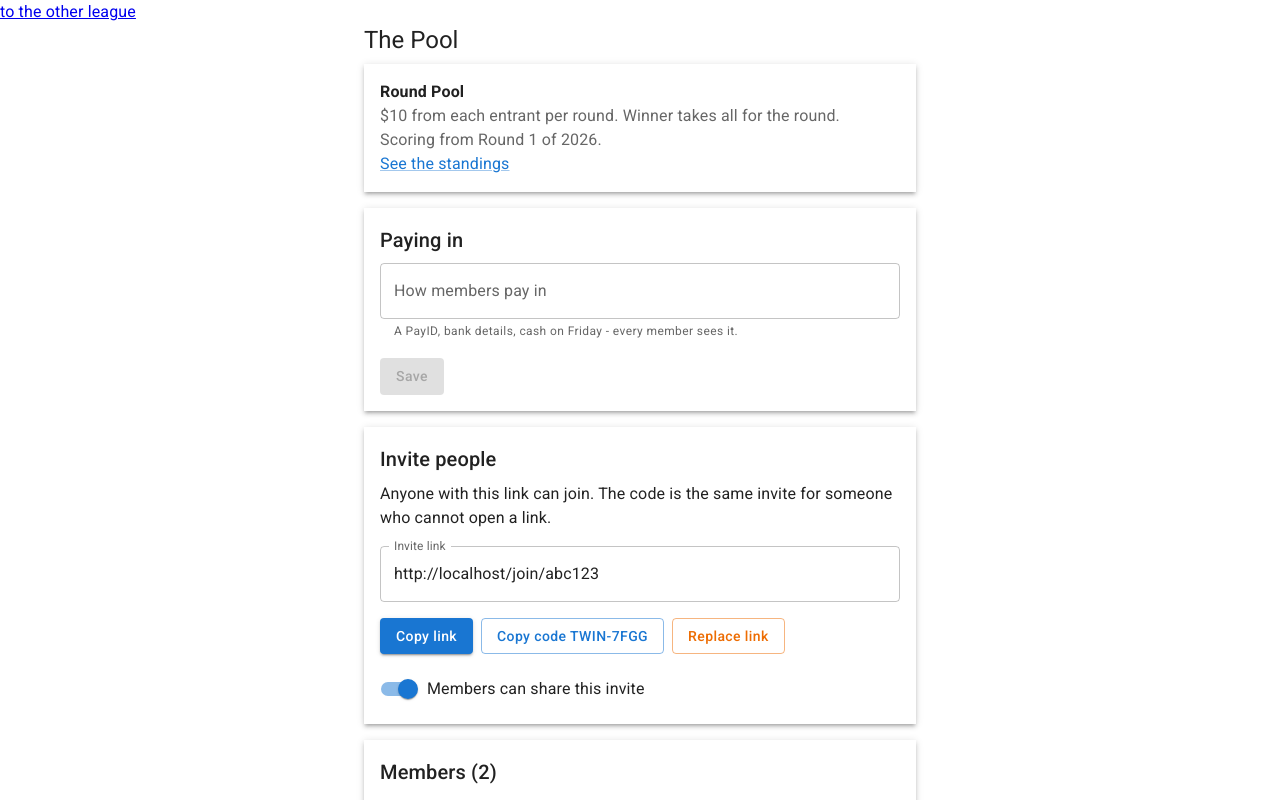
Scenario: replacing the invite › keeping the link changes nothing
Click the button "Replace link" at (728, 636), box top-left (672, 618), bottom-right (785, 654)
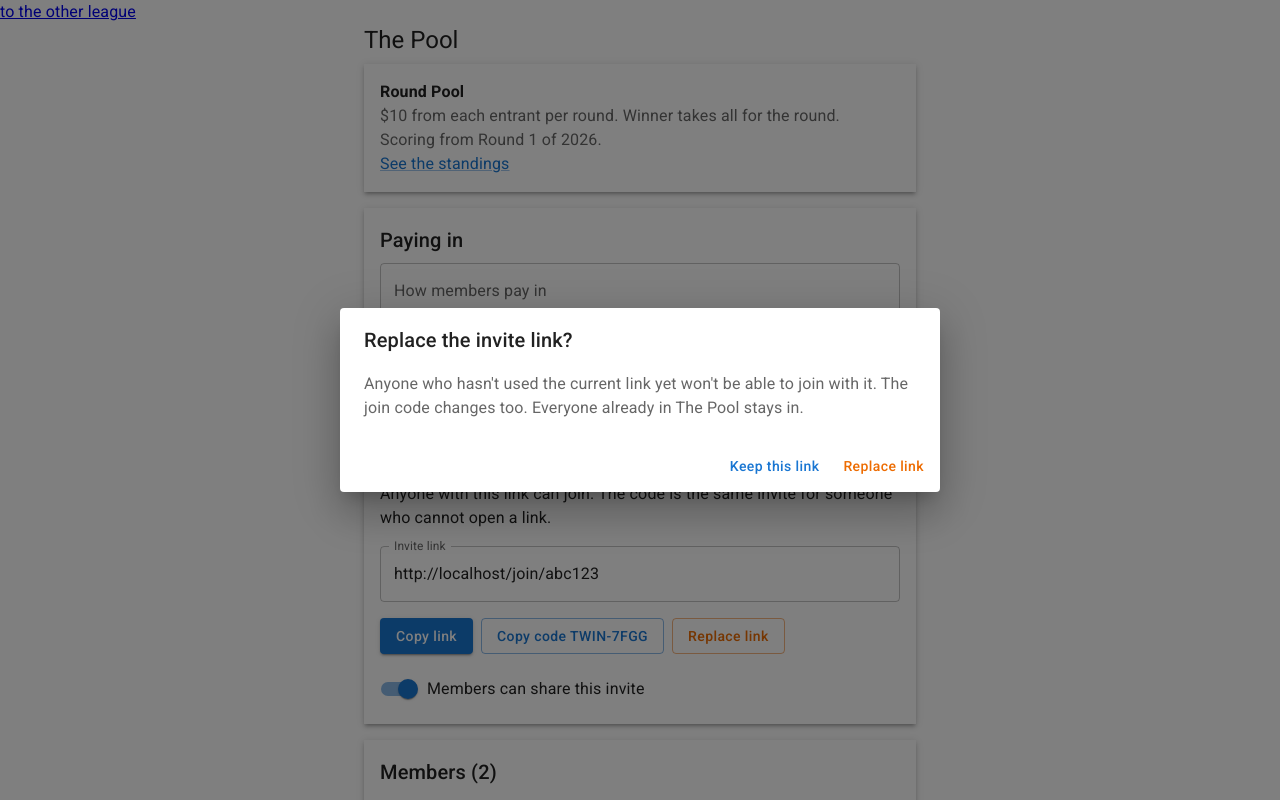
Click the button "Keep this link" at (775, 466), box top-left (722, 448), bottom-right (827, 484)
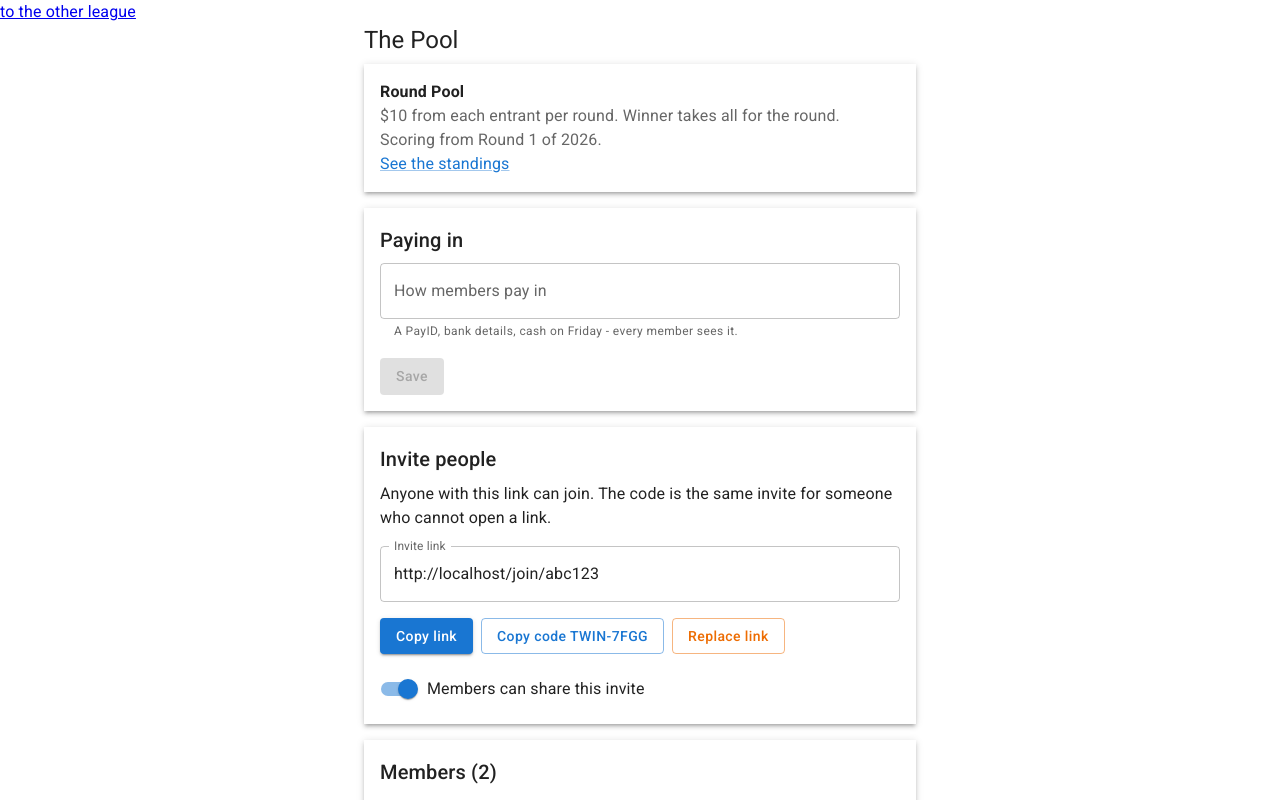
Check: the dialog is gone
